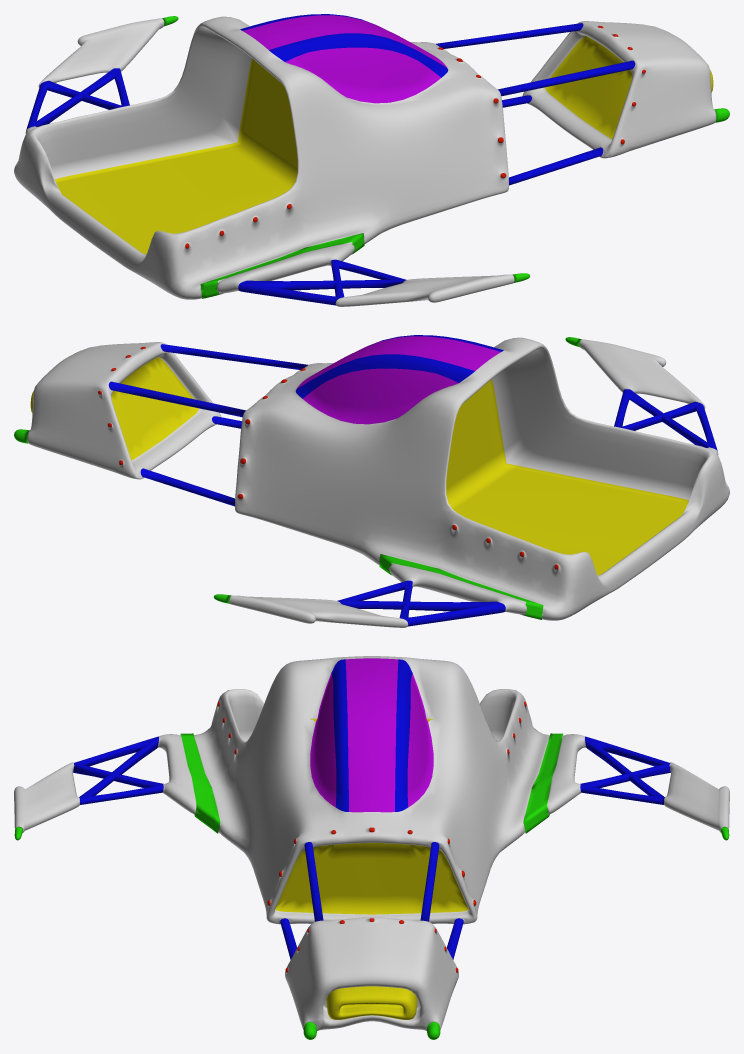
The model's file is RaiderShip_01.fbx.
The picture shows the model from 3 angles, top to bottom: view 1: azimuth 30°, elevation 25°; view 2: azimuth 150°, elevation 25°; view 3: azimuth 270°, elevation 25°; orthographic projection.
Visible parts, largest first — view 1: Cube; view 2: Cube; view 3: Cube.
Boxes of the visible parts, left/top/right/bottom form: Cube: left=14, top=14, right=729, bottom=306; Cube: left=14, top=335, right=729, bottom=627; Cube: left=14, top=656, right=729, bottom=1039.
Size of the model in its own units: 6.28 by 1.66 by 6.18.
